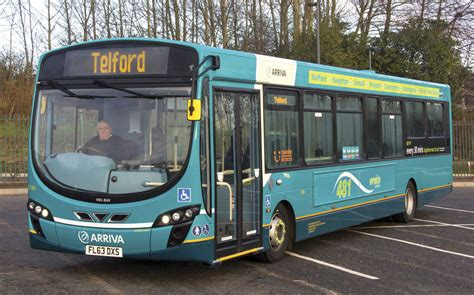bus: (30, 43, 453, 265)
person: (80, 121, 127, 162)
